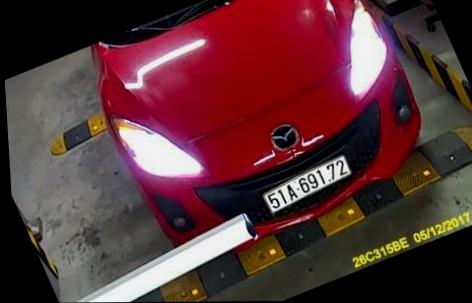License_Plate: (257, 150, 359, 223)
